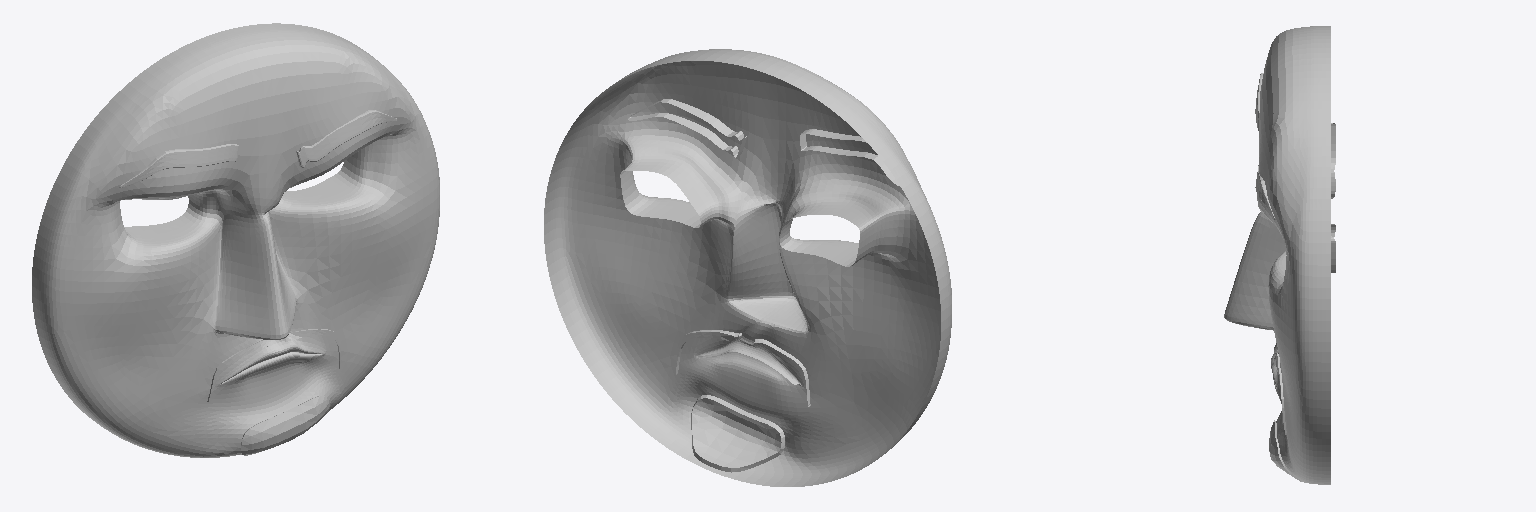
File: Snooty.obj
The picture shows the model from 3 angles: view 1: azimuth 30°, elevation 25°; view 2: azimuth 150°, elevation 25°; view 3: azimuth 270°, elevation 25°; orthographic projection.
Parts seen in each view (by area): view 1: Circle.080_Circle.098; view 2: Circle.080_Circle.098; view 3: Circle.080_Circle.098.
Part boxes in pixels (x1,y1,x2,y2): Circle.080_Circle.098: (32,23,439,457); Circle.080_Circle.098: (544,49,951,486); Circle.080_Circle.098: (1224,26,1335,484).
Size of the model in its own units: 50.64 by 50.7 by 12.29.